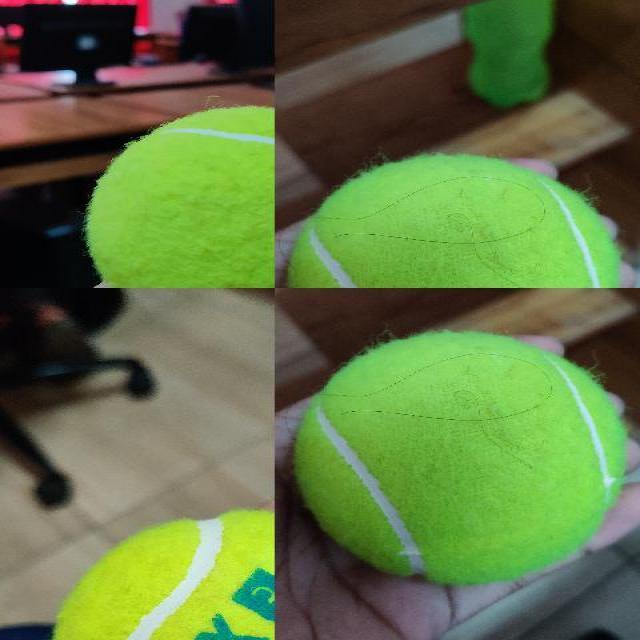tennis-ball: (297, 335, 623, 584), (290, 157, 618, 287), (86, 107, 274, 287), (51, 514, 273, 639)
